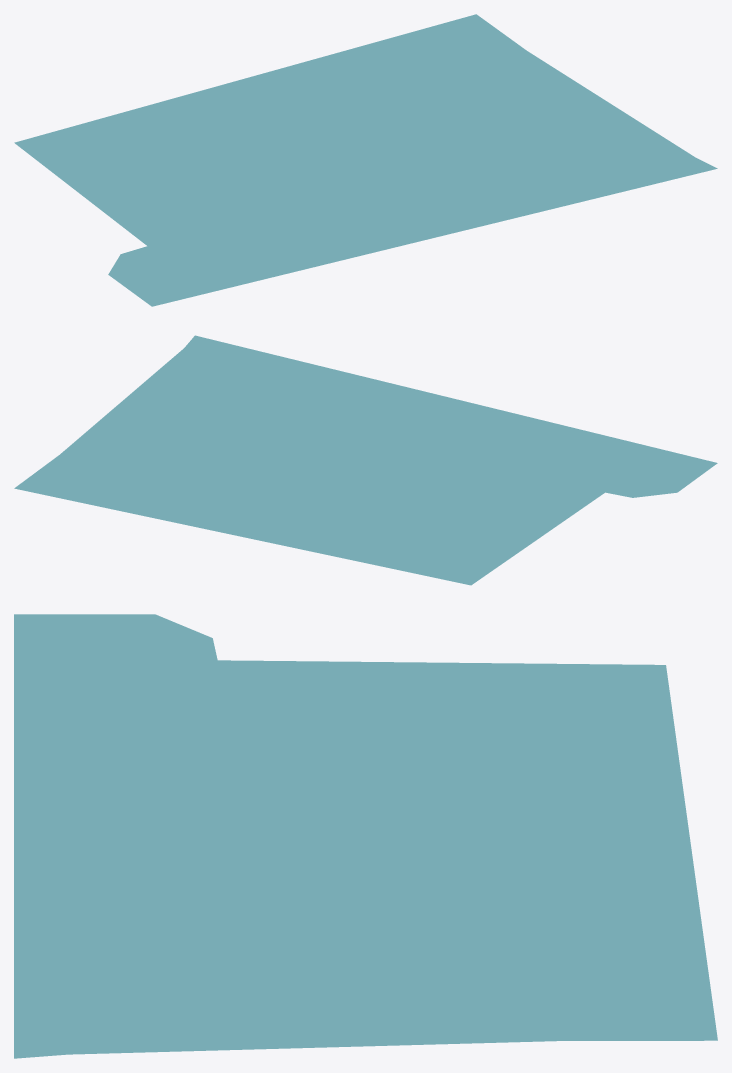
3 renders of one model, top to bottom at view 1: azimuth 30°, elevation 25°; view 2: azimuth 150°, elevation 25°; view 3: azimuth 270°, elevation 25°, orthographic. The views are drawn at different scales.
Visible parts, largest first — view 1: city; view 2: city; view 3: city.
Part boxes in pixels (box(x1,y1,x2,y2)): city: box(14, 14, 717, 306); city: box(14, 335, 717, 585); city: box(14, 614, 717, 1058).
Size of the model in its own units: 69.2 by 0 by 46.32.
